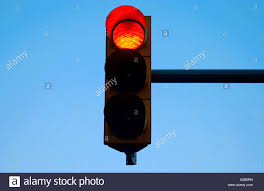red: (102, 4, 152, 153), (108, 17, 147, 142)
